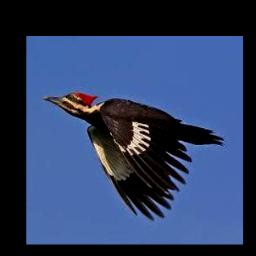Woodpecker: (43, 91, 225, 220)
